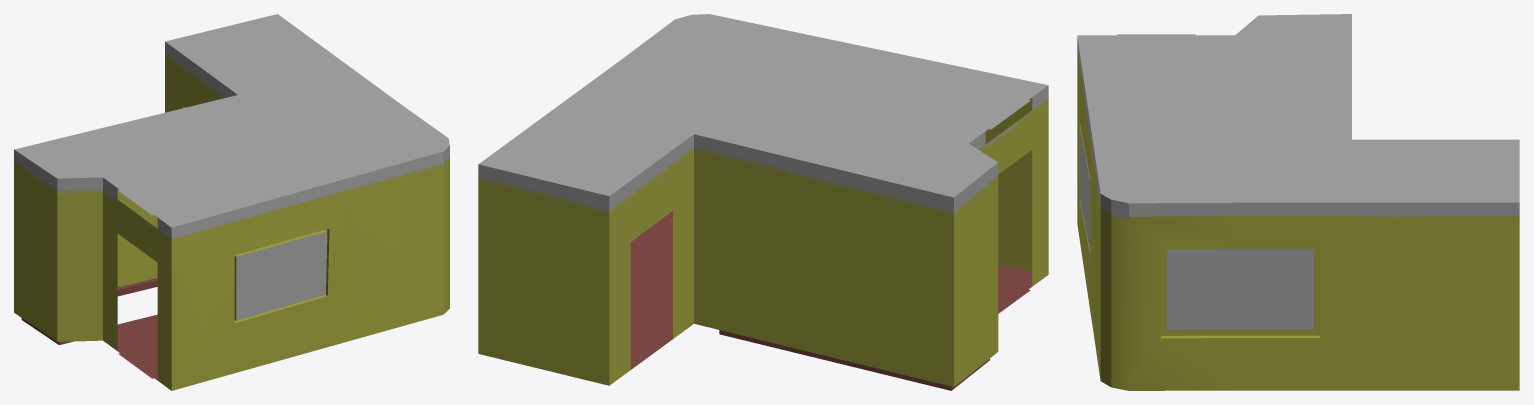
Rendered from KamerGang.fbx.
3 views of the same model, side by side, from view 1: azimuth 30°, elevation 25°; view 2: azimuth 150°, elevation 25°; view 3: azimuth 270°, elevation 25° (orthographic). The views are drawn at different scales.
Visible parts, largest first — view 1: KamerGang, KamerGang1; view 2: KamerGang, KamerGang1; view 3: KamerGang, KamerGang1.
Part boxes in pixels (x1,y1,x2,y2): KamerGang: (14, 54, 449, 390); KamerGang1: (14, 14, 449, 240); KamerGang: (478, 98, 1048, 390); KamerGang1: (478, 14, 1048, 214); KamerGang: (1077, 51, 1519, 390); KamerGang1: (1077, 14, 1519, 219).
Size of the model in its own units: 1451 by 697 by 1434.
